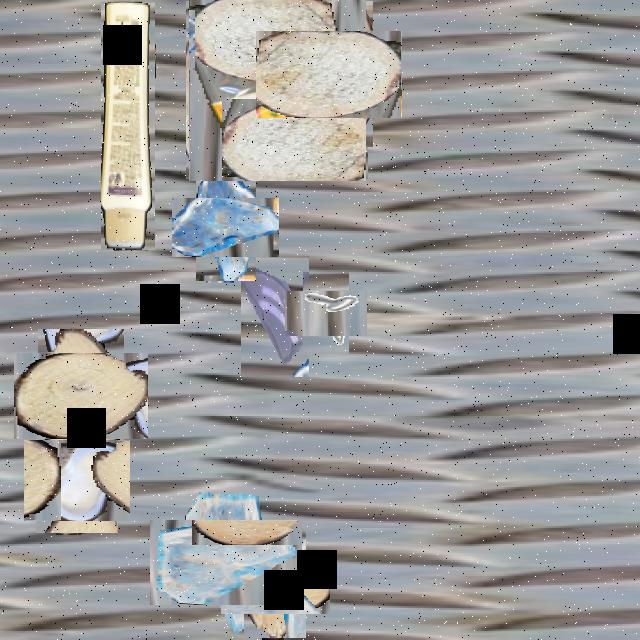glass: (167, 502, 286, 622), (241, 256, 309, 377), (184, 186, 268, 269)
metal: (294, 281, 358, 345)
plastic: (187, 1, 367, 180), (101, 2, 155, 250), (30, 433, 124, 527)
wood: (270, 16, 388, 133), (26, 341, 136, 452), (232, 540, 318, 626)
